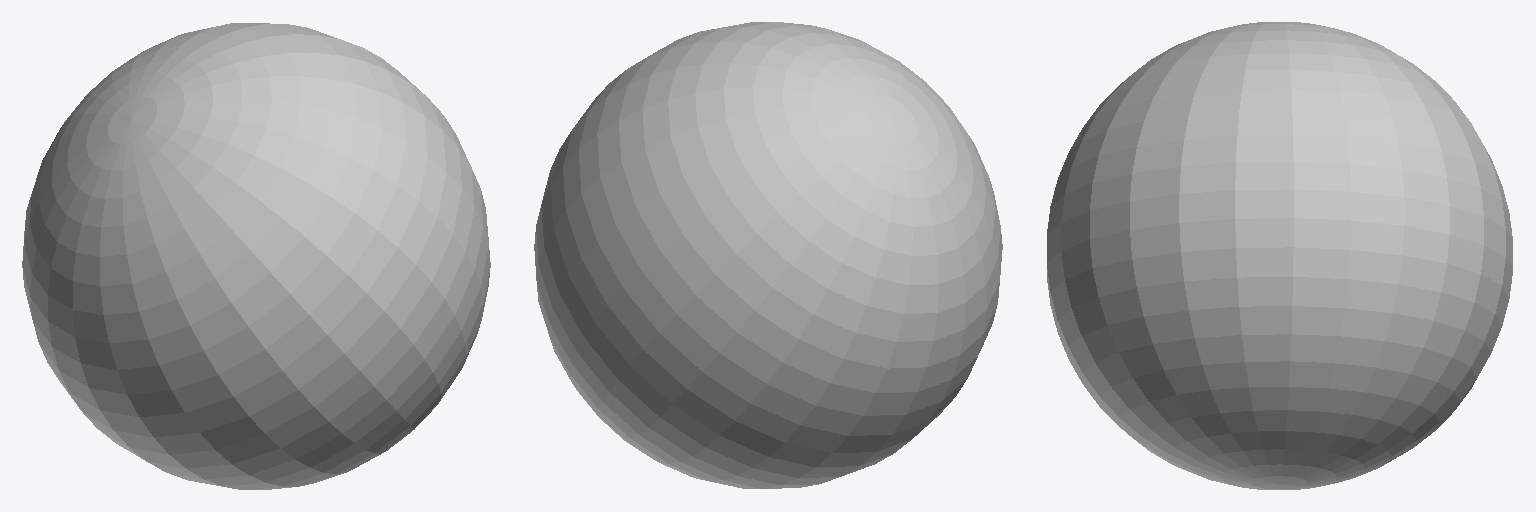
Rendered from CubeWITHAnim0012.obj.
The picture shows the model from 3 angles: view 1: azimuth 30°, elevation 25°; view 2: azimuth 150°, elevation 25°; view 3: azimuth 270°, elevation 25°; orthographic projection.
Parts seen in each view (by area): view 1: NEWJumpBall_Sphere; view 2: NEWJumpBall_Sphere; view 3: NEWJumpBall_Sphere.
Part boxes in pixels (bbox=[...]): NEWJumpBall_Sphere: bbox=[22, 23, 490, 489]; NEWJumpBall_Sphere: bbox=[534, 22, 1002, 488]; NEWJumpBall_Sphere: bbox=[1047, 22, 1512, 489].
Bounding box in the file's own units: 2 × 2 × 1.99.